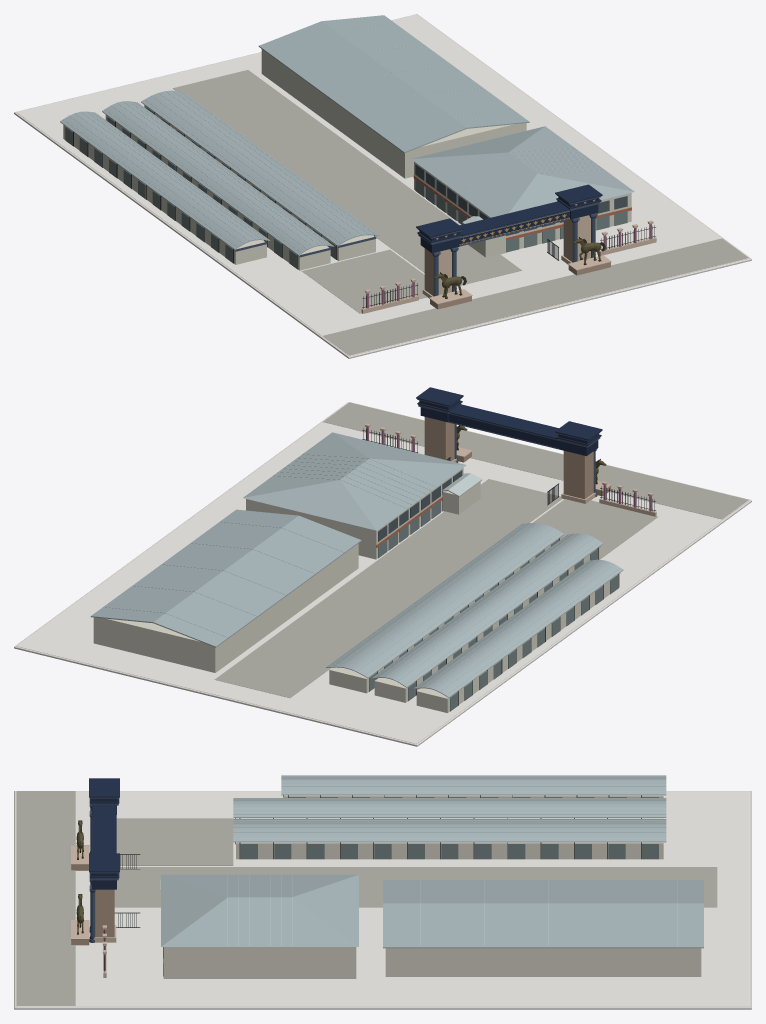
The model's file is auyl-bereke.glb.
The picture shows the model from 3 angles, top to bottom: view 1: azimuth 30°, elevation 25°; view 2: azimuth 150°, elevation 25°; view 3: azimuth 270°, elevation 25°; orthographic projection. The views are drawn at different scales.
Parts seen in each view (by area): view 1: auyl-bereke_auyl_roof, auyl-bereke_auyl_road, auyl-bereke_chalk, auyl-bereke_auyl_wall, auyl-bereke_auyl_roof_light, auyl-bereke_auyl_stall, auyl-bereke_auyl_gate, auyl-bereke_stone, auyl-bereke_auyl_pier_light, auyl-bereke_auyl_gate_edge, auyl-bereke_auyl_pier, auyl-bereke_auyl_steel (+2 smaller); view 2: auyl-bereke_auyl_roof, auyl-bereke_auyl_road, auyl-bereke_chalk, auyl-bereke_auyl_wall, auyl-bereke_auyl_roof_light, auyl-bereke_auyl_gate, auyl-bereke_stone, auyl-bereke_auyl_stall, auyl-bereke_auyl_pier, auyl-bereke_auyl_steel, auyl-bereke_auyl_gate_edge, auyl-bereke_auyl_pier_light (+1 smaller); view 3: auyl-bereke_auyl_roof, auyl-bereke_chalk, auyl-bereke_auyl_road, auyl-bereke_auyl_wall, auyl-bereke_auyl_roof_light, auyl-bereke_stone, auyl-bereke_auyl_stall, auyl-bereke_auyl_gate, auyl-bereke_auyl_pier, auyl-bereke_auyl_pier_light, auyl-bereke_auyl_steel, auyl-bereke_auyl_gate_edge.
Part boxes in pixels (x1,y1,x2,y2): auyl-bereke_auyl_roof: (60,15,634,255); auyl-bereke_auyl_road: (172,70,748,355); auyl-bereke_chalk: (16,14,749,355); auyl-bereke_auyl_wall: (63,49,631,270); auyl-bereke_auyl_roof_light: (63,24,604,252); auyl-bereke_auyl_stall: (65,107,627,268); auyl-bereke_auyl_gate: (416,184,602,258); auyl-bereke_stone: (14,14,751,358); auyl-bereke_auyl_pier_light: (361,211,656,313); auyl-bereke_auyl_gate_edge: (235,195,601,296); auyl-bereke_auyl_pier: (424,219,610,309); auyl-bereke_auyl_steel: (73,112,655,308); auyl-bereke_auyl_roof: (90,432,623,697); auyl-bereke_auyl_road: (214,402,748,697); auyl-bereke_chalk: (16,422,749,743); auyl-bereke_auyl_wall: (93,468,619,712); auyl-bereke_auyl_roof_light: (103,454,619,695); auyl-bereke_auyl_gate: (416,387,602,493); auyl-bereke_stone: (14,402,751,746); auyl-bereke_auyl_stall: (369,499,618,711); auyl-bereke_auyl_pier: (424,417,610,499); auyl-bereke_auyl_steel: (362,428,655,705); auyl-bereke_auyl_gate_edge: (417,398,620,573); auyl-bereke_auyl_pier_light: (364,423,656,516); auyl-bereke_auyl_roof: (161,775,703,948); auyl-bereke_chalk: (16,791,749,1006); auyl-bereke_auyl_road: (16,791,717,1005); auyl-bereke_auyl_wall: (163,795,701,978); auyl-bereke_auyl_roof_light: (160,775,677,946); auyl-bereke_stone: (14,791,751,1009); auyl-bereke_auyl_stall: (163,797,658,976); auyl-bereke_auyl_gate: (89,778,119,939); auyl-bereke_auyl_pier: (71,865,114,945); auyl-bereke_auyl_pier_light: (71,845,116,977); auyl-bereke_auyl_steel: (104,795,641,972); auyl-bereke_auyl_gate_edge: (89,795,283,942).
Bounding box in the file's own units: 96 × 15.76 × 138.
